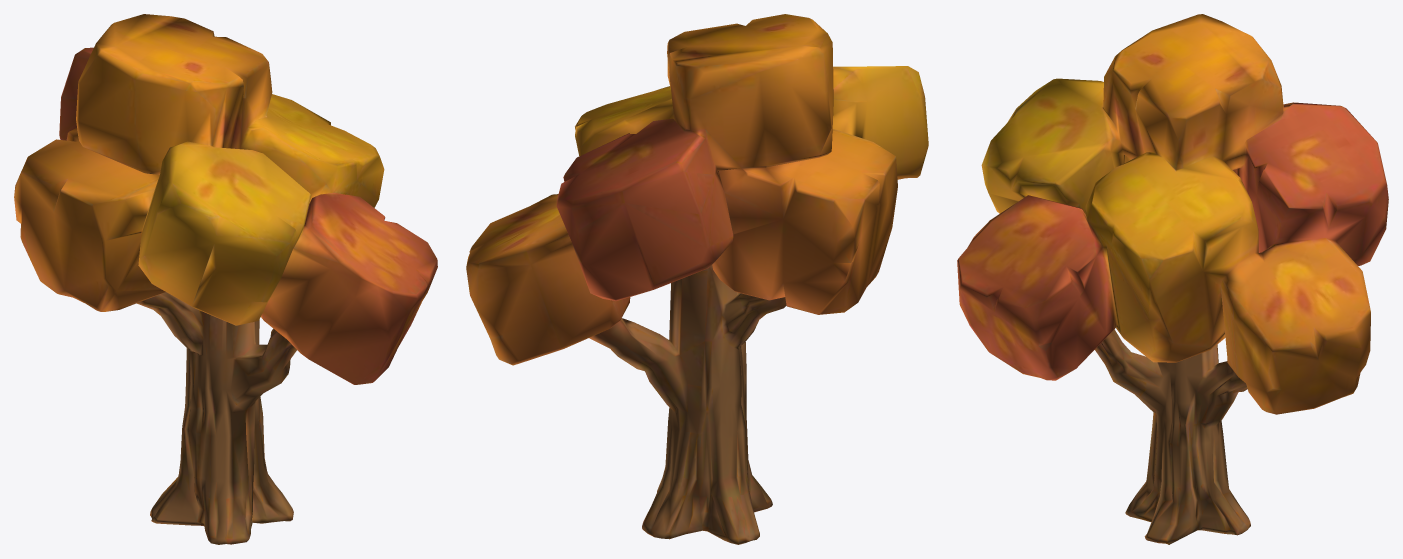
Rendered from autumn_tree.glb.
The picture shows the model from 3 angles, left to right: view 1: azimuth 30°, elevation 25°; view 2: azimuth 150°, elevation 25°; view 3: azimuth 270°, elevation 25°; orthographic projection. The views are drawn at different scales.
Parts seen in each view (by area): view 1: tripo_node_0843bbc7-27c3-4e74-b2e1-5dc92a494b36; view 2: tripo_node_0843bbc7-27c3-4e74-b2e1-5dc92a494b36; view 3: tripo_node_0843bbc7-27c3-4e74-b2e1-5dc92a494b36.
Boxes of the visible parts, x1=… form: tripo_node_0843bbc7-27c3-4e74-b2e1-5dc92a494b36: x1=14, y1=14, x2=437, y2=544; tripo_node_0843bbc7-27c3-4e74-b2e1-5dc92a494b36: x1=466, y1=14, x2=928, y2=544; tripo_node_0843bbc7-27c3-4e74-b2e1-5dc92a494b36: x1=957, y1=14, x2=1388, y2=544.
Bounding box in the file's own units: 16.5 × 22 × 19.
Materials: 1 (1 with a texture image).
